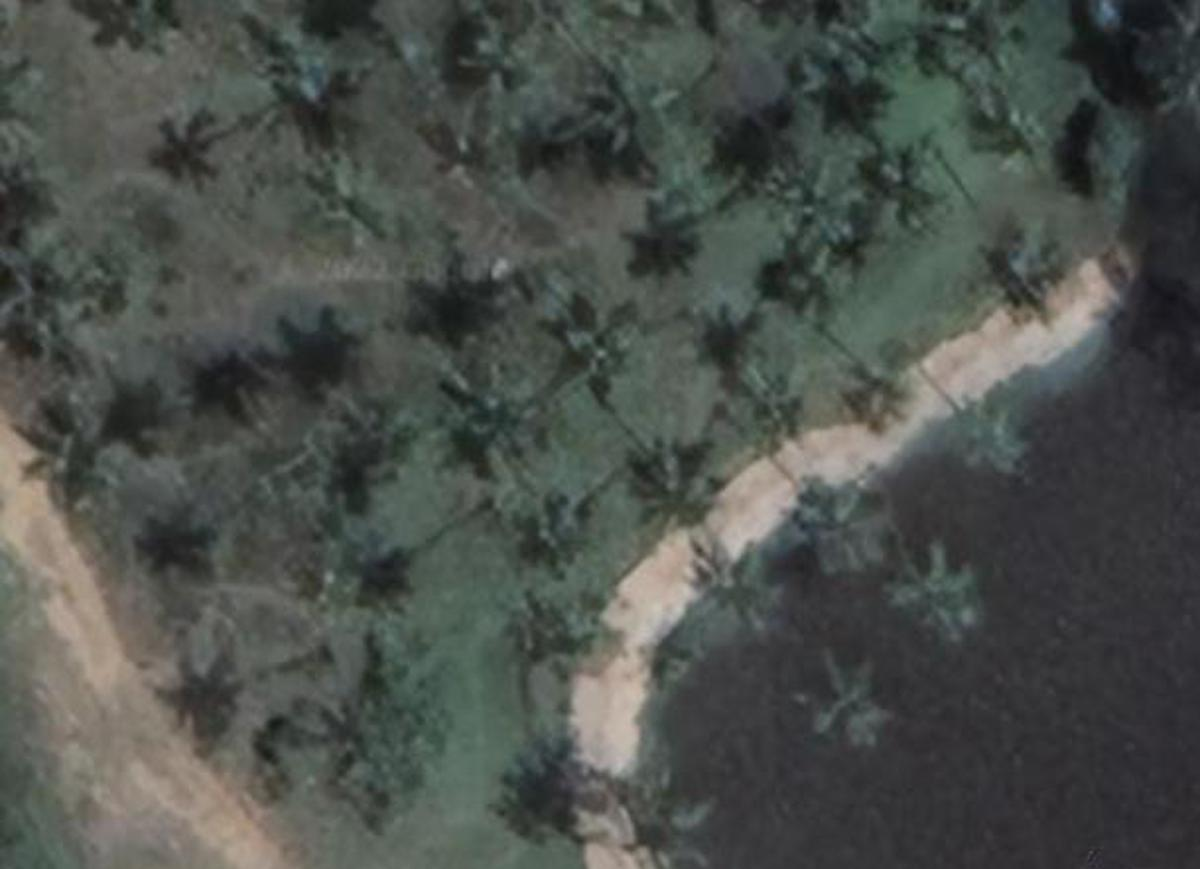coconut: (429, 356, 543, 476), (27, 380, 135, 504), (878, 537, 993, 652), (273, 689, 388, 800), (800, 19, 916, 124), (333, 394, 429, 518), (571, 53, 683, 159), (516, 571, 630, 673), (439, 1, 545, 108), (543, 281, 654, 382), (618, 764, 727, 865), (796, 648, 898, 752), (920, 0, 1030, 96), (427, 102, 526, 208), (794, 465, 894, 569), (305, 139, 398, 248), (185, 329, 283, 431), (766, 155, 865, 254), (508, 484, 606, 583), (628, 439, 725, 539), (677, 297, 780, 390), (725, 358, 819, 459), (630, 161, 731, 254), (989, 228, 1083, 325), (291, 297, 384, 394), (833, 350, 935, 437), (697, 545, 794, 636), (865, 139, 955, 232), (0, 236, 84, 333), (264, 41, 346, 135), (112, 376, 199, 463), (979, 90, 1062, 177), (782, 246, 857, 325), (957, 403, 1034, 478)
